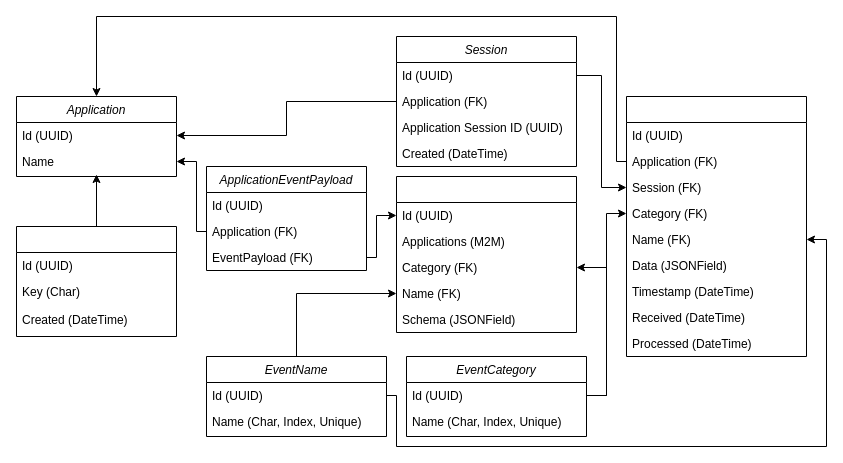
This 843x463 diagram has some shape labels left out. Here are the shapes that lost their labels. From the top down, the box of each, then its label:
(626, 96, 806, 356): Event
(396, 176, 576, 332): EventPayload
(16, 226, 176, 336): ApplicationKey
